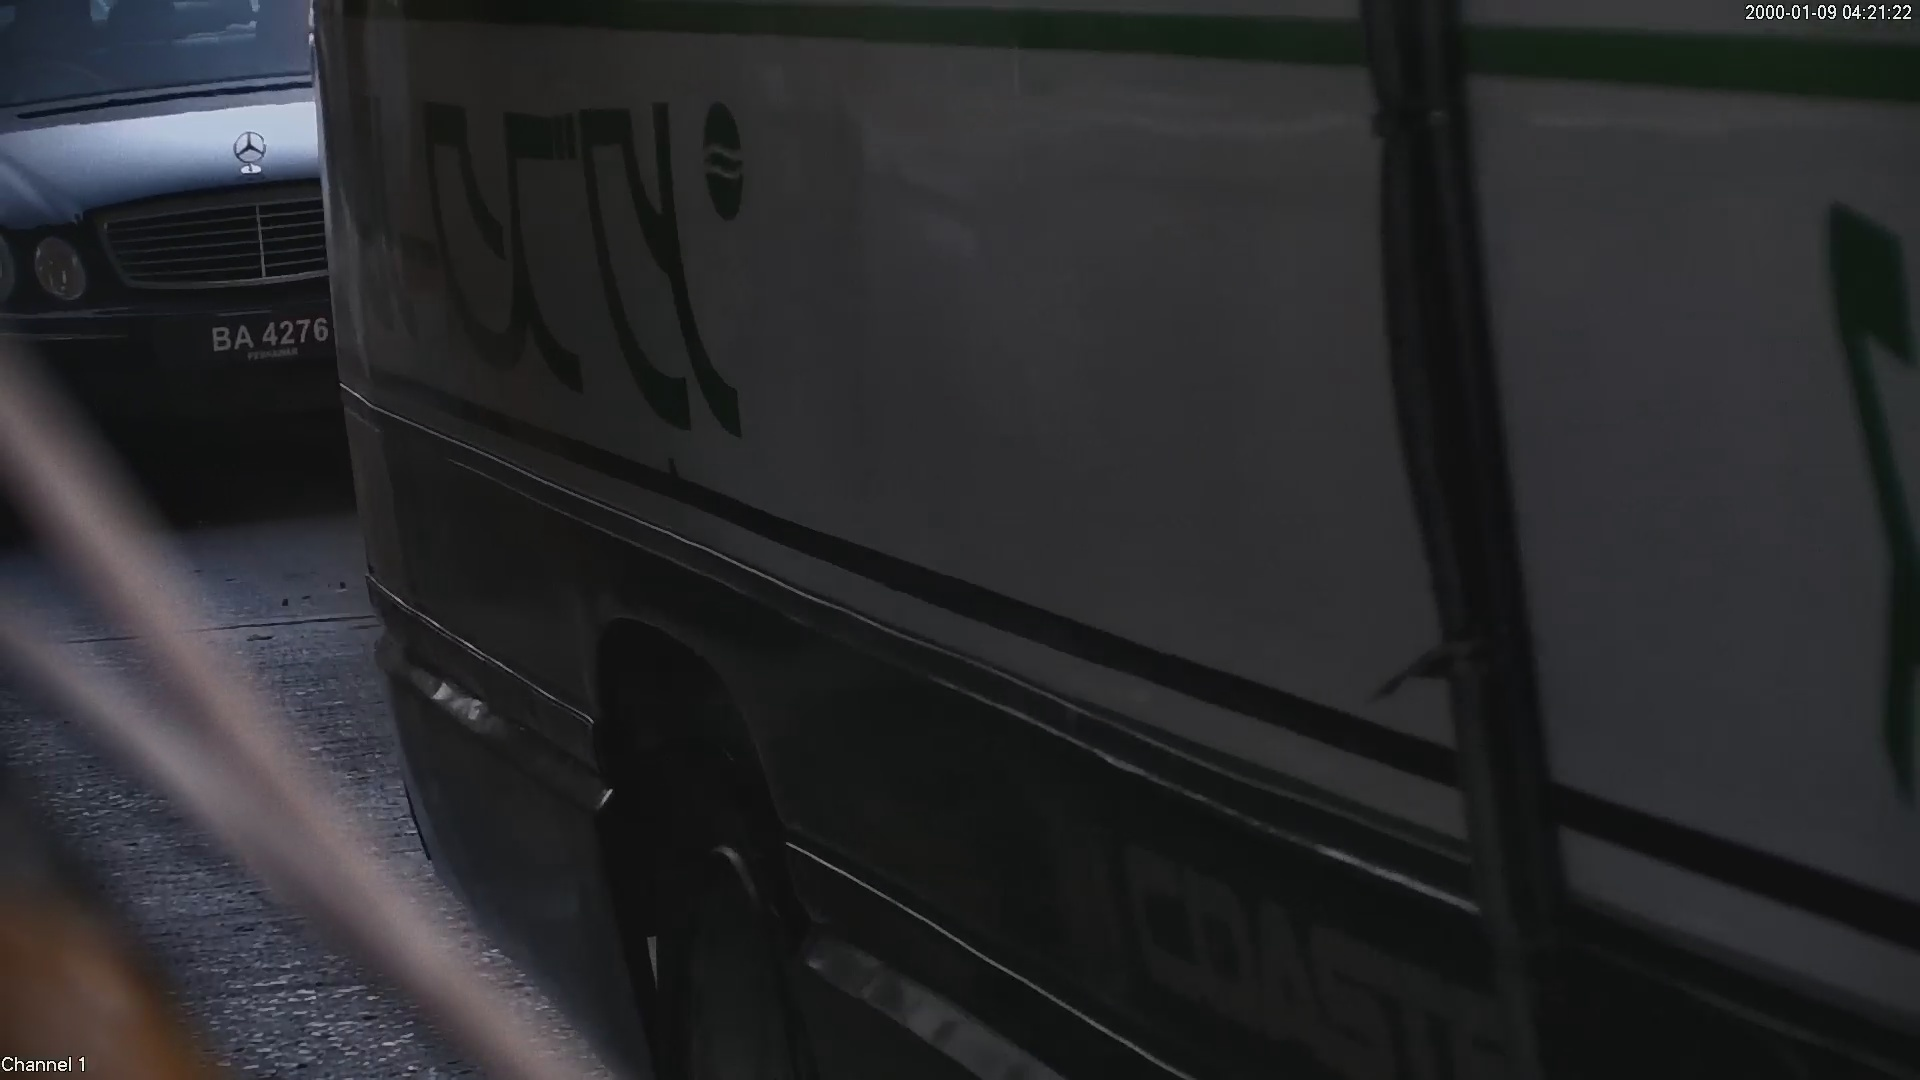Number_Plate: (195, 309, 345, 366)
Undefined: (387, 105, 832, 399)
